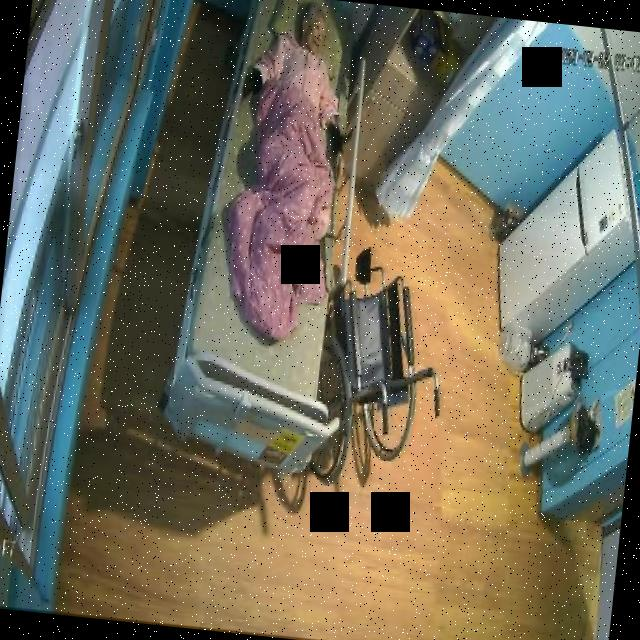bed: (163, 0, 369, 470)
lie: (213, 0, 358, 349)
patient: (236, 0, 363, 153)
